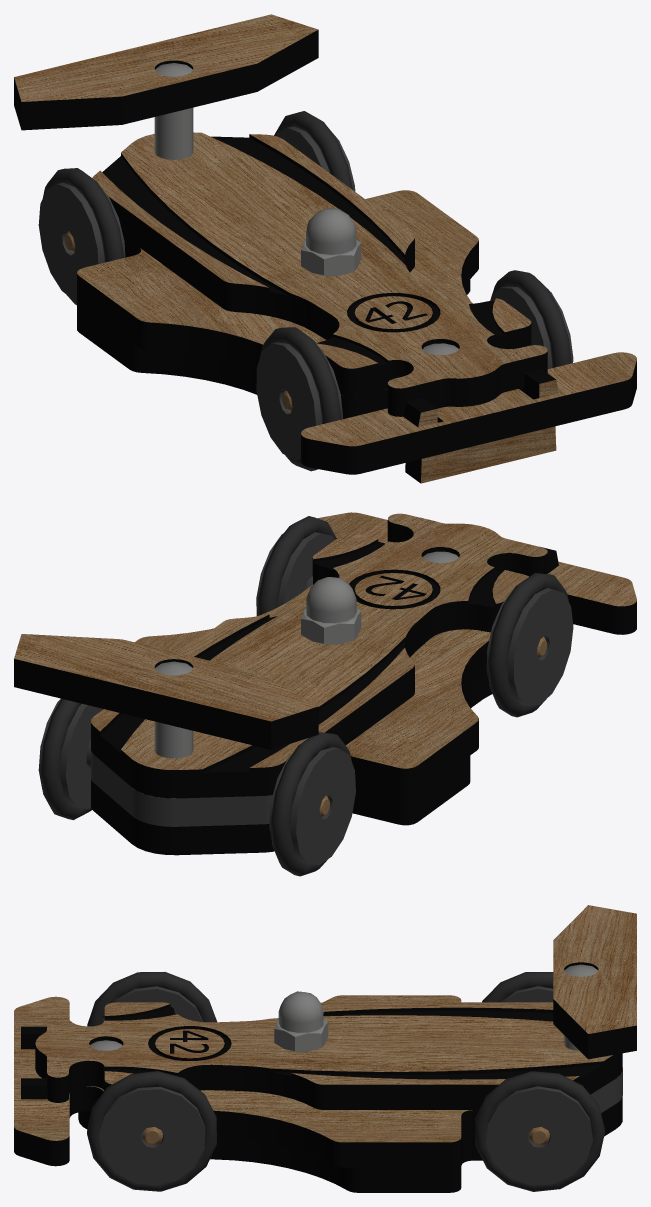
File: car.glb
3 renders of one model, top to bottom at view 1: azimuth 30°, elevation 25°; view 2: azimuth 150°, elevation 25°; view 3: azimuth 270°, elevation 25°, orthographic. The views are drawn at different scales.
Parts seen in each view (by area): view 1: Formul 1 V3_dessinateur; view 2: Formul 1 V3_dessinateur; view 3: Formul 1 V3_dessinateur.
Part boxes in pixels (box(x1,y1,x2,y2)): Formul 1 V3_dessinateur: box(14, 14, 636, 483); Formul 1 V3_dessinateur: box(14, 512, 636, 876); Formul 1 V3_dessinateur: box(14, 905, 636, 1192).
Bounding box in the file's own units: 50 × 27.42 × 89.45.
7 materials, 1 textured.
